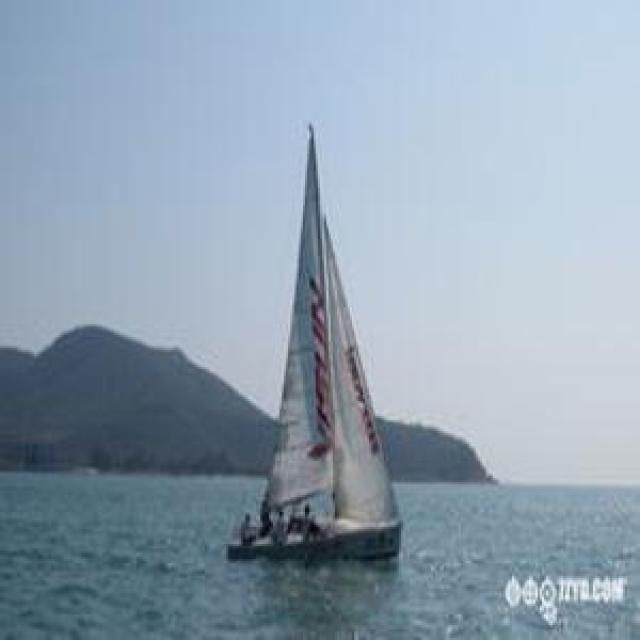sailboat: (225, 120, 403, 564)
